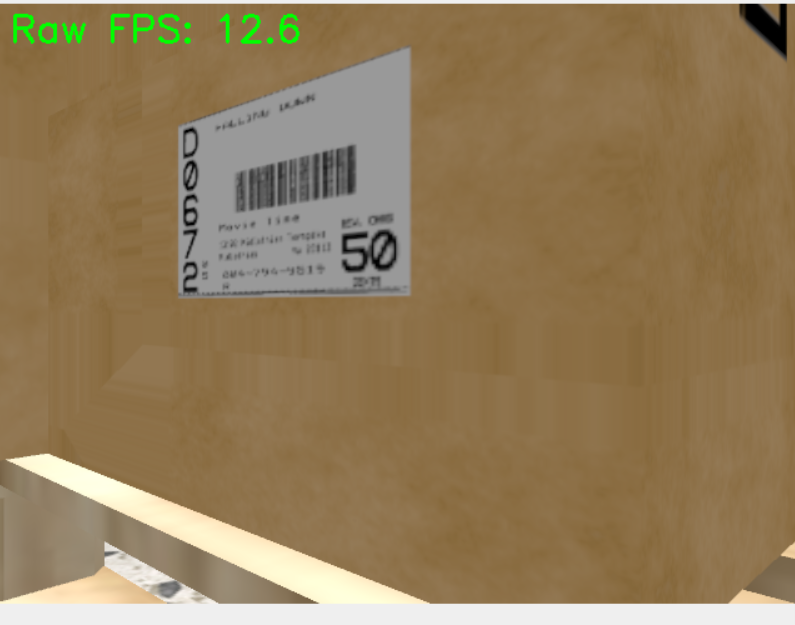barcode: (176, 49, 412, 296)
